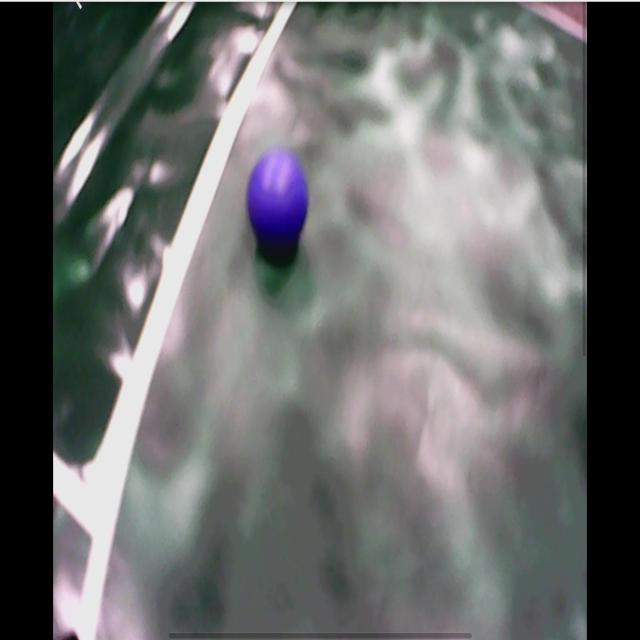ball: (248, 151, 309, 241)
